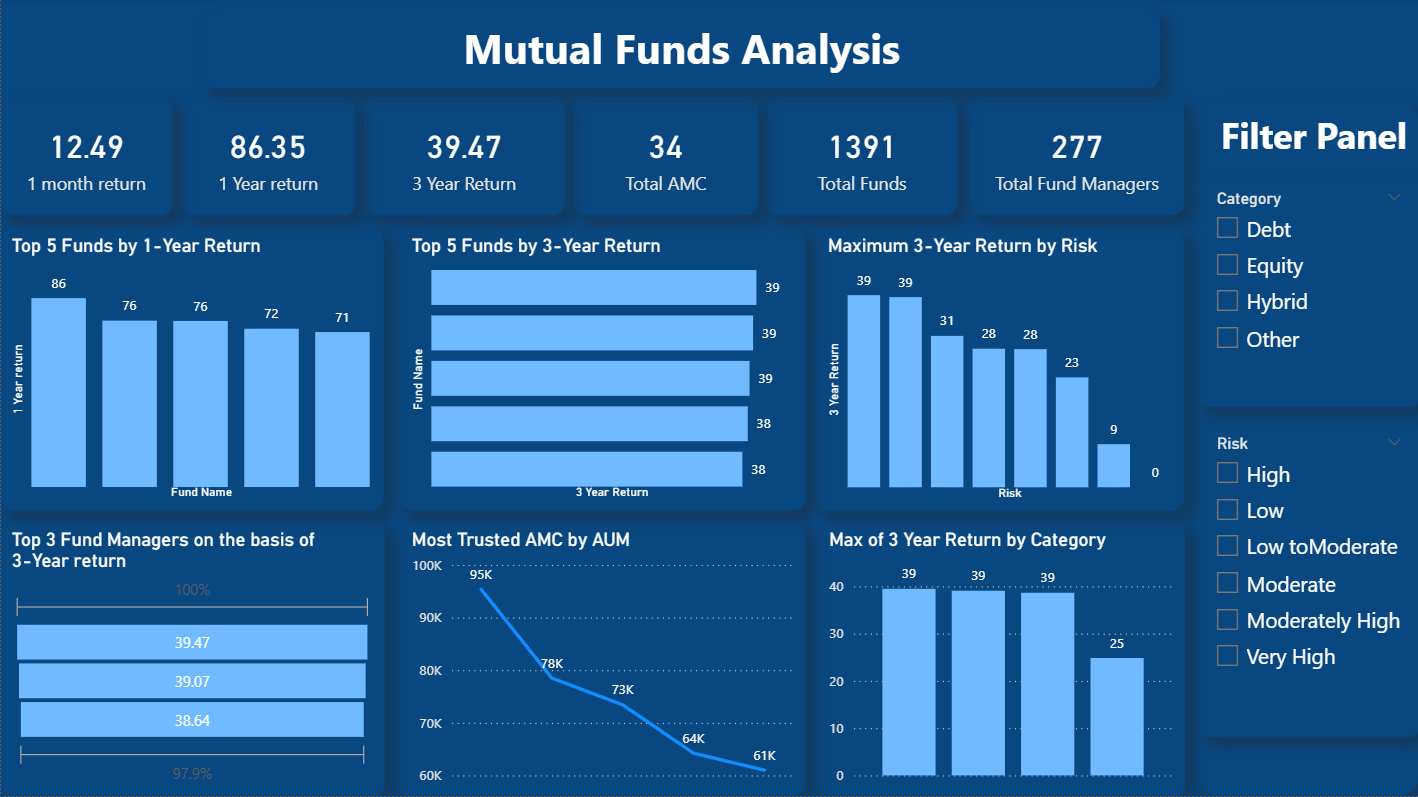

This screenshot's page, from the dashboard's own definition file:
{"tool":"powerbi","page":{"name":"Page 1","canvas":[1280,720],"ordinal":0},"visuals":[{"type":"textbox","box":[182.6,10.5,862.8,70.9],"z":0},{"type":"textbox","box":[1078.7,92.4,201.8,628.9],"z":1000},{"type":"card","fields":{"Values":["Max(cleaned.1 month return)"]},"box":[0,90.7,154.7,105.8],"z":2000},{"type":"card","fields":{"Values":["Max(cleaned.1 Year return)"]},"box":[164,90.7,155.8,105.8],"z":3000},{"type":"card","fields":{"Values":["Max(cleaned.3 Year Return)"]},"box":[327.9,90.7,180.2,105.8],"z":4000},{"type":"card","fields":{"Values":["Count(cleaned.AMC)"]},"box":[517.4,90.7,165.1,105.8],"z":5000},{"type":"card","fields":{"Values":["Count(cleaned.Fund Name)"]},"box":[691.9,90.7,169.8,105.8],"z":6000},{"type":"card","fields":{"Values":["Count(cleaned.Fund Manager)"]},"box":[874.4,90.7,191.9,105.8],"z":7000},{"type":"slicer","fields":{"Values":["cleaned.Risk"]},"box":[1078.7,383.2,201.8,282.9],"z":8000},{"type":"columnChart","title":"Top 5 Funds by 1-Year Return","fields":{"Y":["Sum(cleaned.1 Year return)"],"Category":["cleaned.Fund Name"]},"box":[0,208.5,344.9,253.6],"z":9000},{"type":"barChart","title":"Top 5 Funds by 3-Year Return","fields":{"Category":["cleaned.Fund Name"],"Y":["Sum(cleaned.3 Year Return)"]},"box":[360.7,208.5,364.1,253.6],"z":10000},{"type":"funnel","title":"Top 3 Fund Managers on the basis of 3-Year return","fields":{"Category":["cleaned.Fund Manager"],"Y":["Max(cleaned.3 Year Return)"]},"box":[0,473.4,345.8,247],"z":11000},{"type":"slicer","fields":{"Values":["cleaned.Category"]},"box":[1078.7,162.3,201.8,206.3],"z":12000},{"type":"lineChart","title":"Most Trusted AMC by AUM","fields":{"Y":["Max(cleaned.AUM)"],"Category":["cleaned.AMC"]},"box":[360.9,473.4,363.6,247],"z":13000},{"type":"columnChart","fields":{"Category":["cleaned.Category"],"Y":["Max(cleaned.3 Year Return)"]},"box":[736.9,473.4,330.7,247],"z":14000},{"type":"columnChart","title":"Maximum 3-Year Return by Risk ","fields":{"Category":["cleaned.Risk"],"Y":["Max(cleaned.3 Year Return)"]},"box":[735.5,208.6,330.7,253.9],"z":15000}]}

Visuals, with their boxes in screenshot pixels (x1, y1, x2, y2), scaled from the page's 1280x720 canvas onto the 1418x797 screenshot:
textbox: rect(202, 12, 1158, 90)
textbox: rect(1195, 102, 1417, 796)
card - Max(cleaned.1 month return): rect(0, 100, 171, 218)
card - Max(cleaned.1 Year return): rect(182, 100, 354, 218)
card - Max(cleaned.3 Year Return): rect(363, 100, 563, 218)
card - Count(cleaned.AMC): rect(573, 100, 756, 218)
card - Count(cleaned.Fund Name): rect(766, 100, 955, 218)
card - Count(cleaned.Fund Manager): rect(969, 100, 1181, 218)
slicer - cleaned.Risk: rect(1195, 424, 1417, 737)
"Top 5 Funds by 1-Year Return" columnChart: rect(0, 231, 382, 512)
"Top 5 Funds by 3-Year Return" barChart: rect(400, 231, 803, 512)
"Top 3 Fund Managers on the basis of 3-Year return" funnel: rect(0, 524, 383, 796)
slicer - cleaned.Category: rect(1195, 180, 1417, 408)
"Most Trusted AMC by AUM" lineChart: rect(400, 524, 803, 796)
columnChart - cleaned.Category x Max(cleaned.3 Year Return): rect(816, 524, 1183, 796)
"Maximum 3-Year Return by Risk " columnChart: rect(815, 231, 1181, 512)
